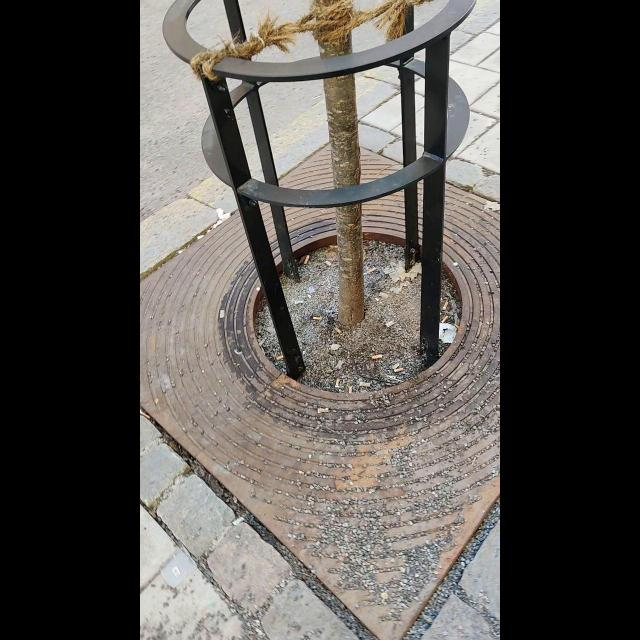cigarette: (140, 409, 153, 420), (367, 268, 377, 276), (393, 367, 405, 373), (304, 254, 310, 266), (348, 384, 353, 396), (312, 315, 324, 320), (334, 327, 342, 334), (372, 355, 383, 360), (443, 302, 448, 311), (335, 378, 339, 389), (220, 310, 225, 318), (443, 315, 447, 325), (278, 356, 284, 360)
